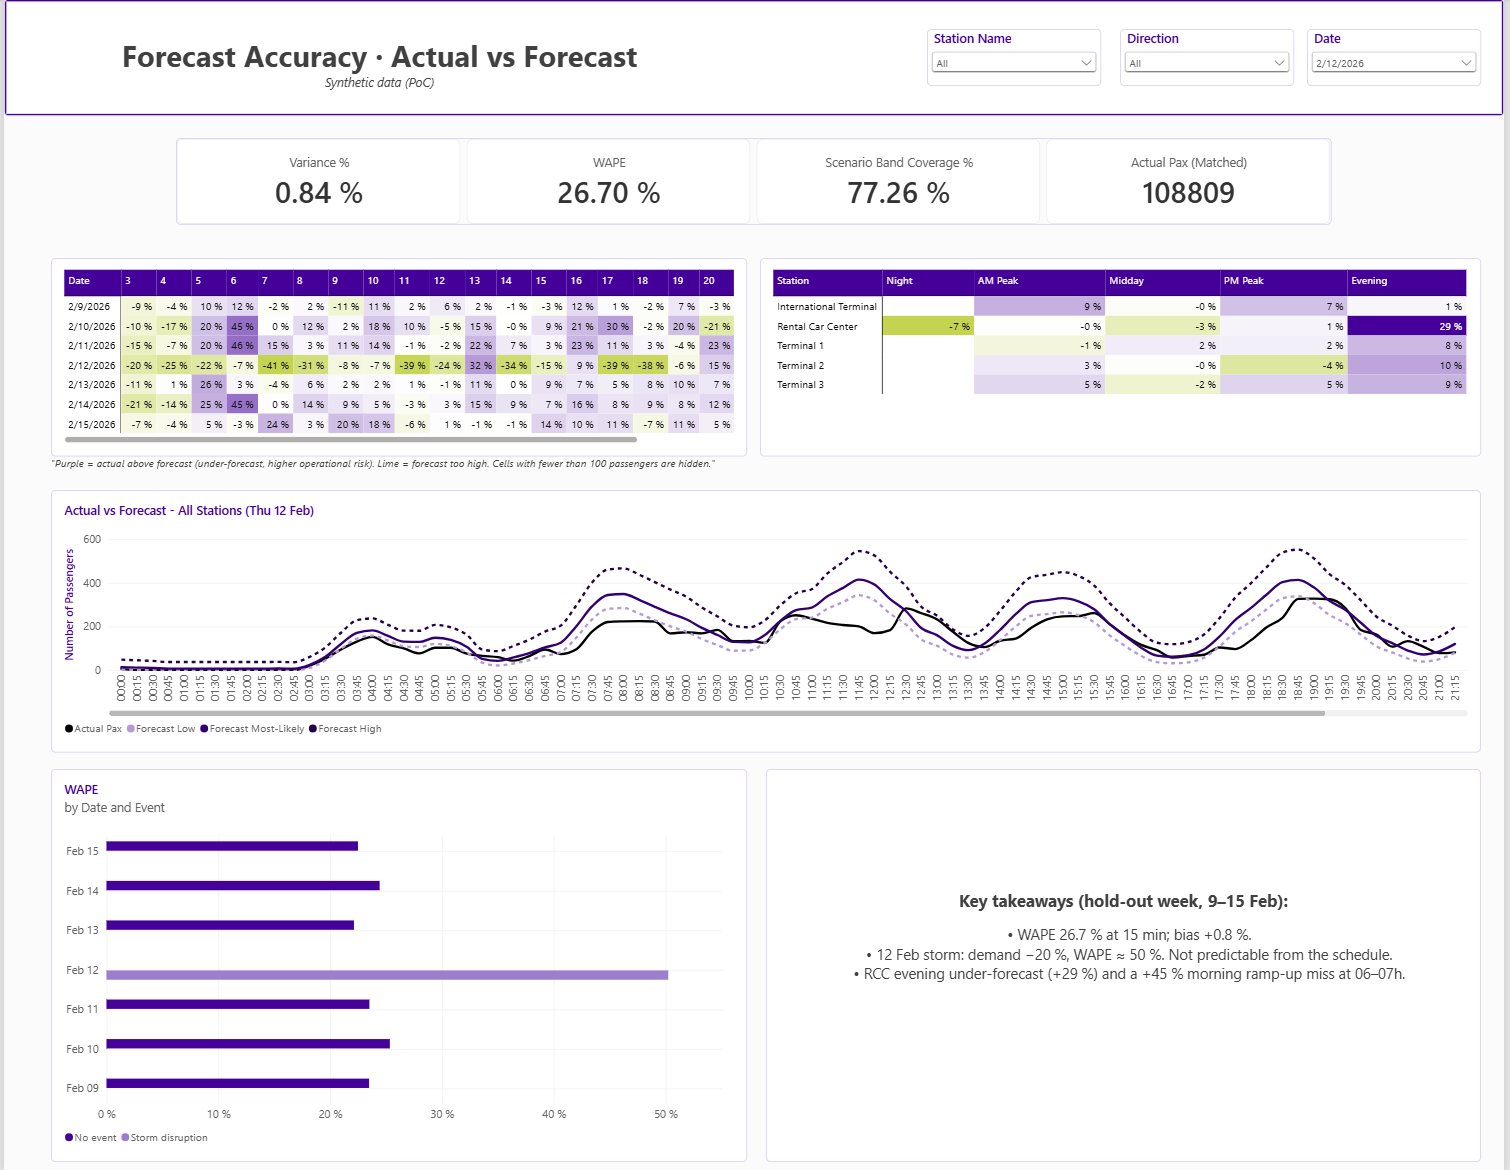

The dashboard page shown, as its layout file describes it:
{"tool":"powerbi","page":{"name":"Forecast Accuracy","canvas":[1920,1500],"ordinal":1},"visuals":[{"type":"shape","box":[0,0,1920,150],"z":0},{"type":"slicer","fields":{"Values":["Dim_Date.Date"]},"box":[1667.5,38.8,223,73],"z":1000},{"type":"slicer","fields":{"Values":["Dim_Direction.Direction_Name"]},"box":[1428.8,38.8,223,73],"z":2000},{"type":"slicer","fields":{"Values":["Dim_Station.Station_Name"]},"box":[1181.2,38.8,223,73],"z":3000},{"type":"textbox","box":[10,29,941,98],"z":4000},{"type":"cardVisual","fields":{"Data":["_Measures.Variance %","_Measures.WAPE","_Measures.Scenario Band Coverage %","_Measures.Actual Pax (Matched)"]},"box":[220,178,1479,111],"z":5000},{"type":"pivotTable","fields":{"Rows":["Dim_Date.Date"],"Columns":["Dim_Time15.Hour"],"Values":["_Measures.Variance % (Min Volume)"]},"box":[60,331,891,254],"z":6000},{"type":"lineChart","fields":{"Category":["Dim_Time15.Time_Label"],"Y":["_Measures.Actual Pax","_Measures.Forecast Low","_Measures.Forecast Most-Likely","_Measures.Forecast High"]},"box":[60,628.8,1830,336],"z":7000},{"type":"clusteredBarChart","fields":{"Y":["_Measures.WAPE"],"Category":["Dim_Date.Date"],"Series":["Dim_Date.Event_Name"]},"box":[60,985,891.2,502.5],"z":8000},{"type":"pivotTable","fields":{"Rows":["Dim_Station.Station_Name"],"Values":["_Measures.Variance % (Min Volume)"],"Columns":["Dim_Time15.Day_Part"]},"box":[967,331,923,254],"z":9000},{"type":"textbox","box":[60,585,1830,43.8],"z":10000},{"type":"textbox","box":[975,985,915,502.5],"z":11000}]}

Visuals, with their boxes in screenshot pixels (x1, y1, x2, y2), scaled from the page's 1920x1500 canvas onto the 1510x1170 screenshot:
shape: x1=0 y1=0 x2=1509 y2=117
slicer - Dim_Date.Date: x1=1311 y1=30 x2=1487 y2=87
slicer - Dim_Direction.Direction_Name: x1=1124 y1=30 x2=1299 y2=87
slicer - Dim_Station.Station_Name: x1=929 y1=30 x2=1104 y2=87
textbox: x1=8 y1=23 x2=748 y2=99
cardVisual - _Measures.Variance % x _Measures.WAPE: x1=173 y1=139 x2=1336 y2=225
pivotTable - Dim_Date.Date x Dim_Time15.Hour: x1=47 y1=258 x2=748 y2=456
lineChart - Dim_Time15.Time_Label x _Measures.Actual Pax: x1=47 y1=490 x2=1486 y2=753
clusteredBarChart - _Measures.WAPE x Dim_Date.Date: x1=47 y1=768 x2=748 y2=1160
pivotTable - Dim_Station.Station_Name x _Measures.Variance % (Min Volume): x1=761 y1=258 x2=1486 y2=456
textbox: x1=47 y1=456 x2=1486 y2=490
textbox: x1=767 y1=768 x2=1486 y2=1160
